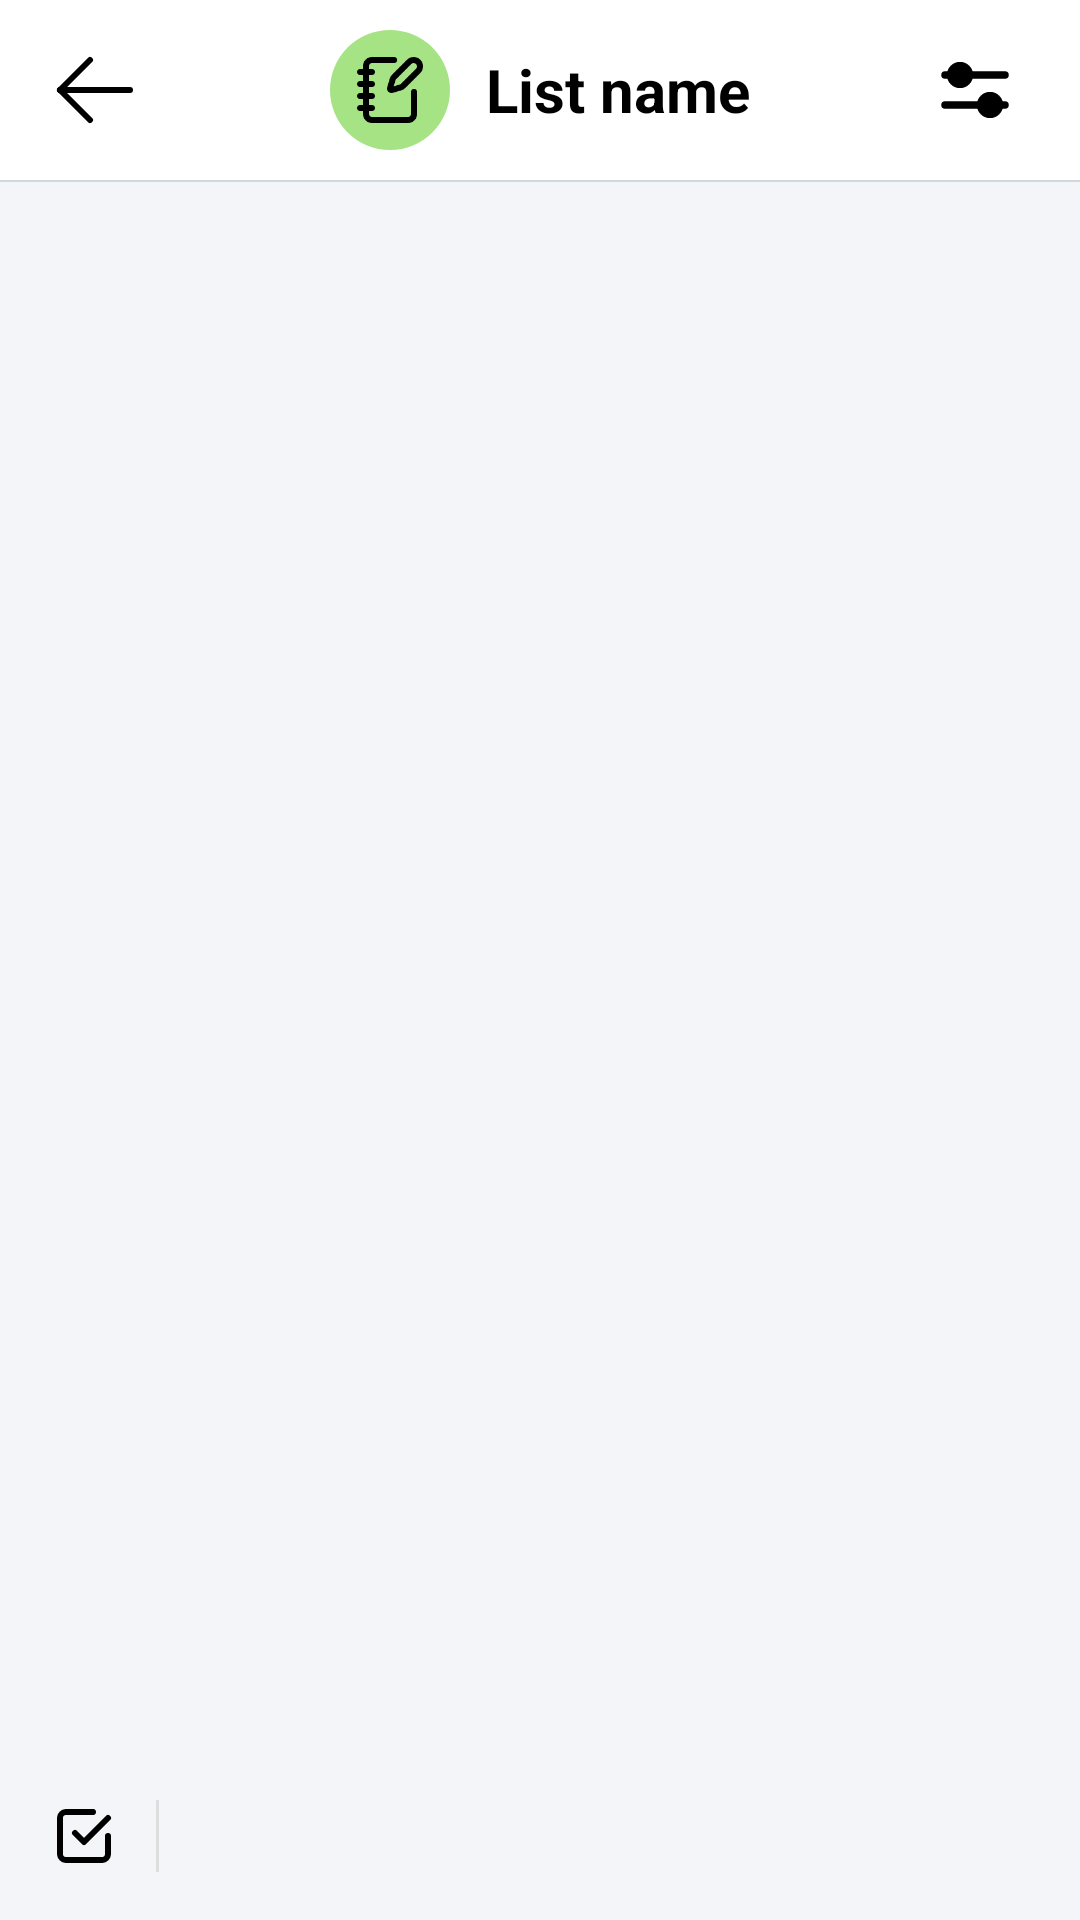

Icon click points for this 1080px x 1920px phone screenshot, format (x=x, y=y):
arrow back: (x=94, y=90)
book: (x=390, y=90)
check box: (x=84, y=1836)
setting task: (x=975, y=90)
